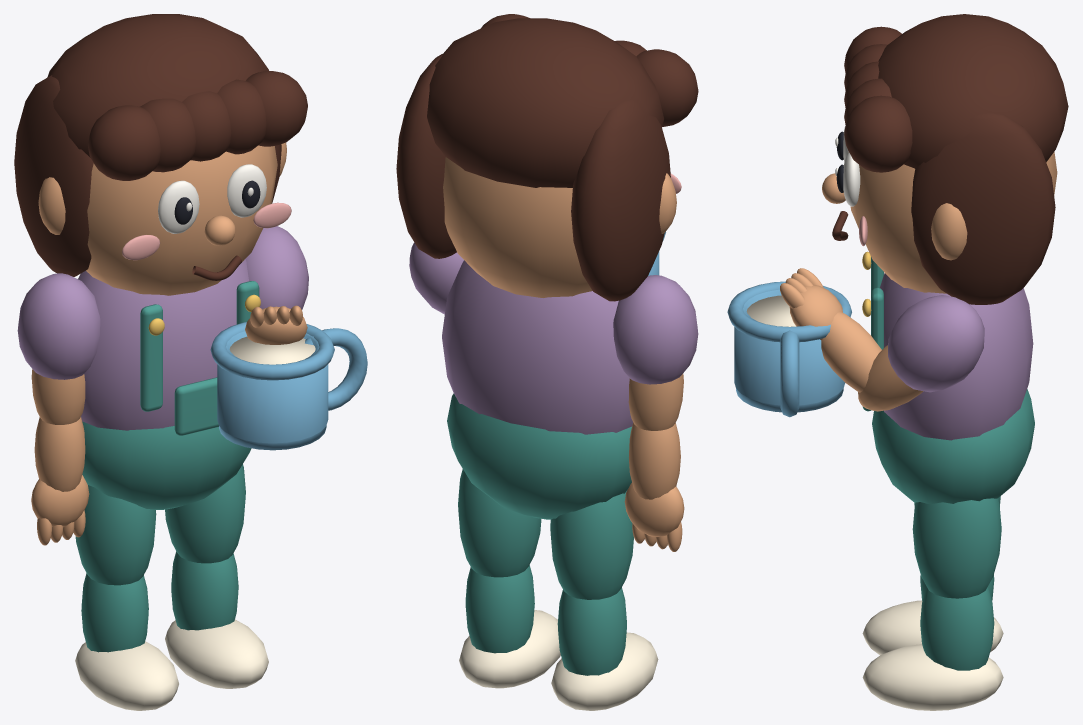
File: mommy-drink.glb
3 renders of one model, left to right at view 1: azimuth 30°, elevation 25°; view 2: azimuth 150°, elevation 25°; view 3: azimuth 270°, elevation 25°, orthographic. The views are drawn at different scales.
Parts seen in each view (by area): view 1: hair cap, clay head, soft shirt, overalls, bob hair, hollow cup wall, shirt sleeve, trouser leg, little shoe, little shoe.001, trouser leg.001, fringe (+24 smaller); view 2: hair cap, soft shirt, bob hair, overalls, clay head, shirt sleeve, trouser leg, bob hair.001, trouser leg.001, lower leg, lower leg.001, little shoe (+7 smaller); view 3: bob hair.001, hair cap, soft shirt, overalls, trouser leg.001, shirt sleeve.001, clay head, little shoe.001, hollow cup wall, lower leg.001, fringe.004, forearm.001 (+14 smaller).
Boxes of the visible parts, box(x1,y1,x2,y2) form: hair cap: box(47, 14, 268, 157); clay head: box(86, 145, 277, 295); soft shirt: box(78, 259, 248, 430); overalls: box(82, 421, 251, 509); bob hair: box(14, 75, 93, 276); hollow cup wall: box(217, 331, 328, 443); shirt sleeve: box(17, 273, 100, 379); trouser leg: box(75, 485, 156, 585); little shoe: box(75, 641, 178, 710); little shoe.001: box(165, 619, 268, 688); trouser leg.001: box(165, 464, 245, 563); fringe: box(88, 105, 160, 180); hair cap: box(427, 18, 663, 187); soft shirt: box(442, 260, 633, 434); bob hair: box(571, 100, 670, 301); overalls: box(447, 393, 631, 519); clay head: box(443, 157, 592, 297); shirt sleeve: box(613, 275, 698, 384); trouser leg: box(550, 491, 633, 599); bob hair.001: box(396, 53, 456, 258); trouser leg.001: box(458, 469, 541, 577); lower leg: box(557, 587, 626, 675); lower leg.001: box(465, 565, 534, 653); little shoe: box(551, 632, 658, 710); bob hair.001: box(911, 113, 1055, 304); hair cap: box(878, 14, 1068, 168); soft shirt: box(880, 273, 1033, 440); overalls: box(872, 389, 1034, 503); trouser leg.001: box(912, 498, 1001, 598); shirt sleeve.001: box(888, 295, 984, 392); clay head: box(848, 151, 1057, 293); little shoe.001: box(862, 644, 1003, 710); hollow cup wall: box(734, 289, 844, 405); lower leg.001: box(920, 587, 994, 670); fringe.004: box(844, 95, 912, 172); forearm.001: box(821, 312, 881, 392).
Size of the model in its own units: 0.9387 by 2.14 by 1.01.
